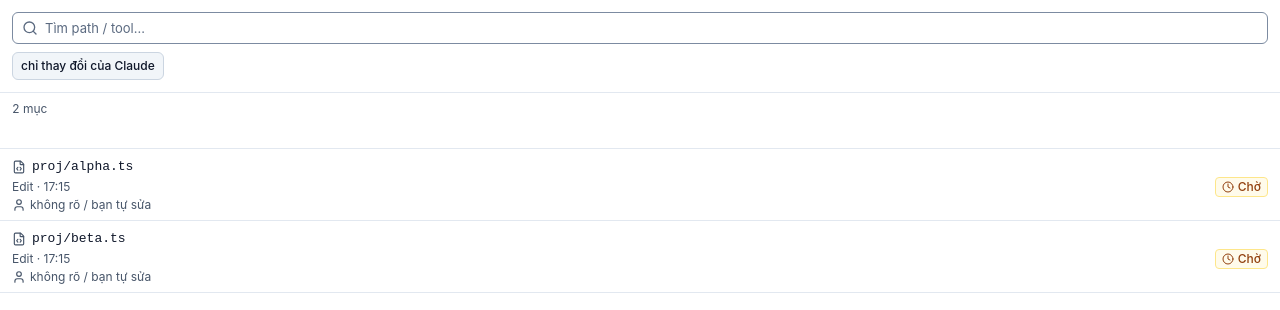
<EditListPanel /> › search input narrows visible rows and the status slot reads {v} / {t} mục
The width and height of the screenshot is (1280, 310).
Check: the text "proj/alpha.ts" is shown, box [32,157,133,177]
Check: the text "2 mục" is shown, box [12,101,48,116]
In the search field with placeholder "Tìm path / tool…": (640, 28) [12,12,1268,44], type "beta"
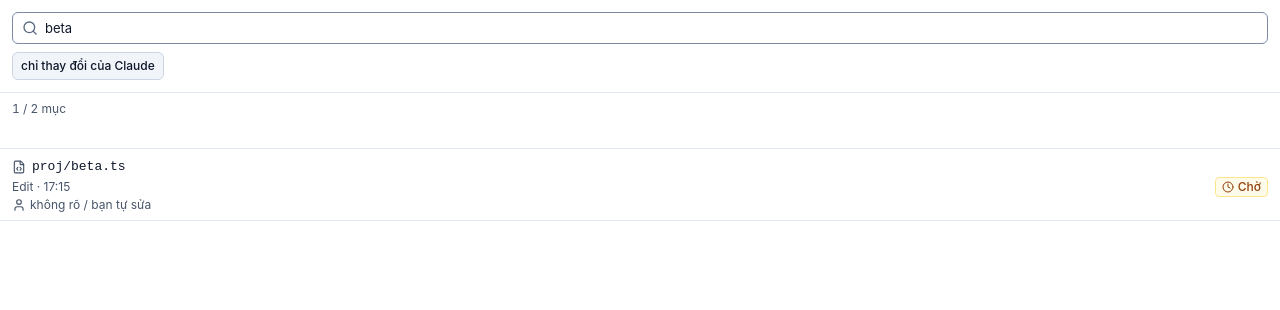
Check: the text "proj/beta.ts" is shown, box [32,157,126,177]
Check: the option "alpha.ts" is gone
Check: the text "1 / 2 mục" is shown, box [12,101,66,116]
